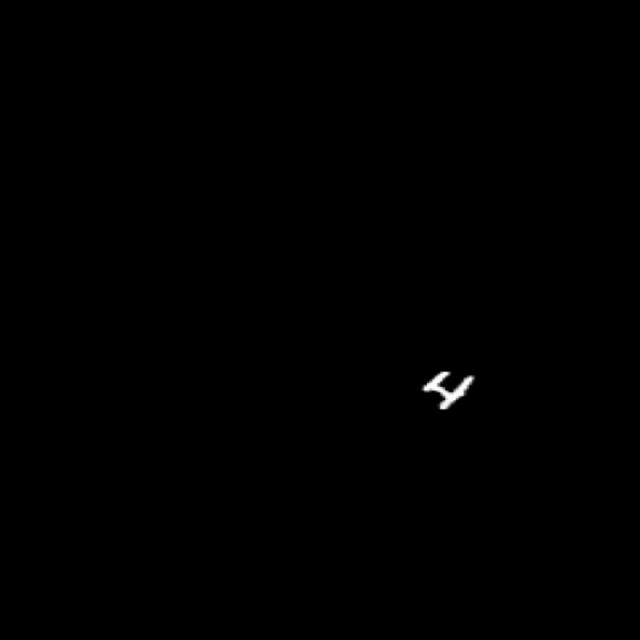four -4-: (404, 345, 500, 429)
